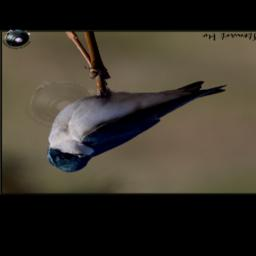Swallow: (46, 81, 229, 173)
